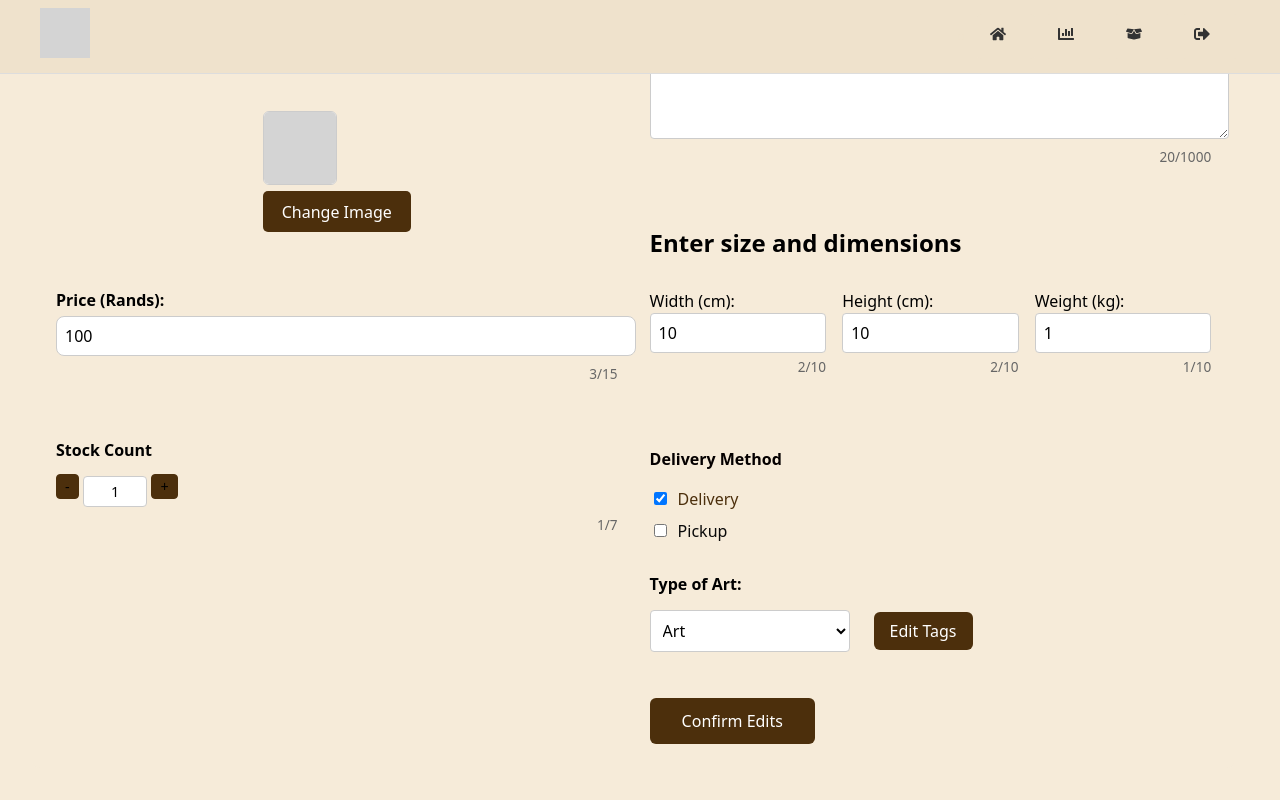
it: EditProductPage Functional Tests › adding tag shows it in list
(page scrolled)
Click the button "Edit Tags" at [923, 631], box [874,612,972,650]
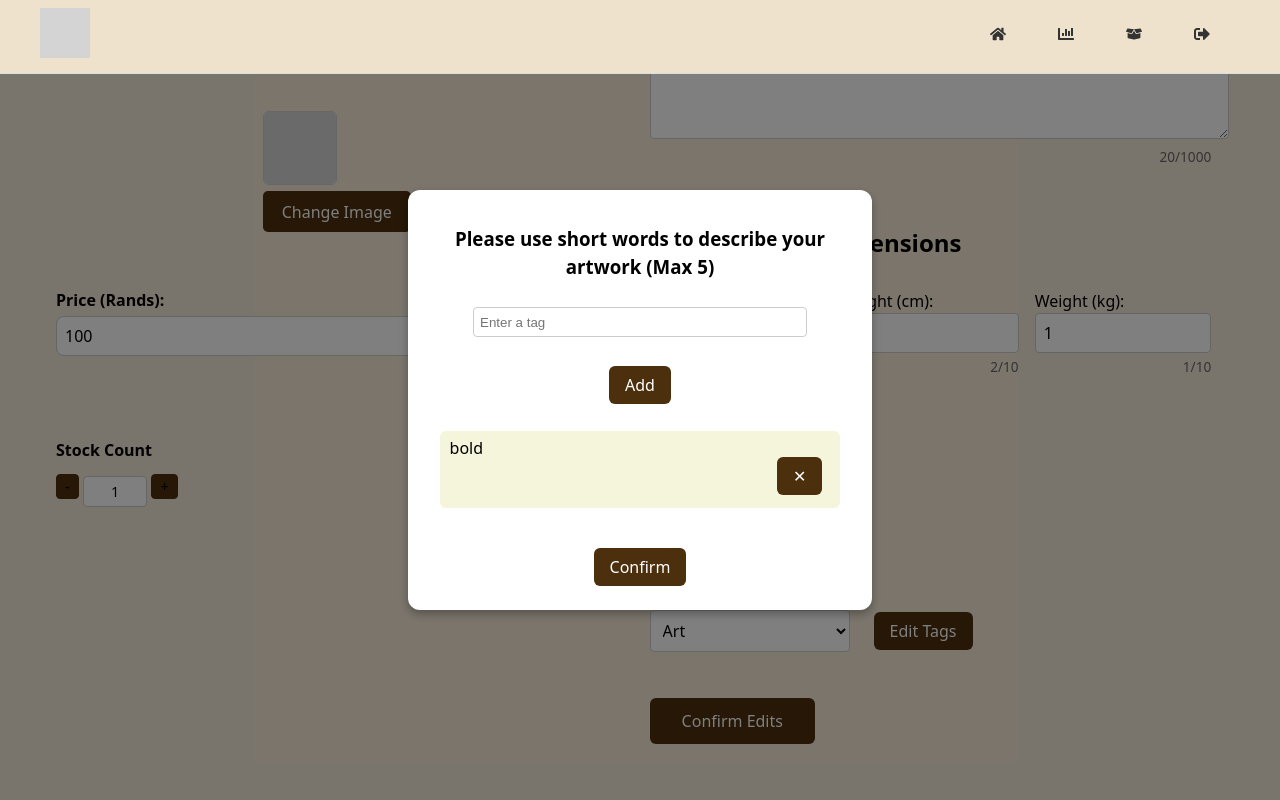
Type "vintage" into the field with placeholder "Enter a tag" at [640, 322], box [473,307,807,337]
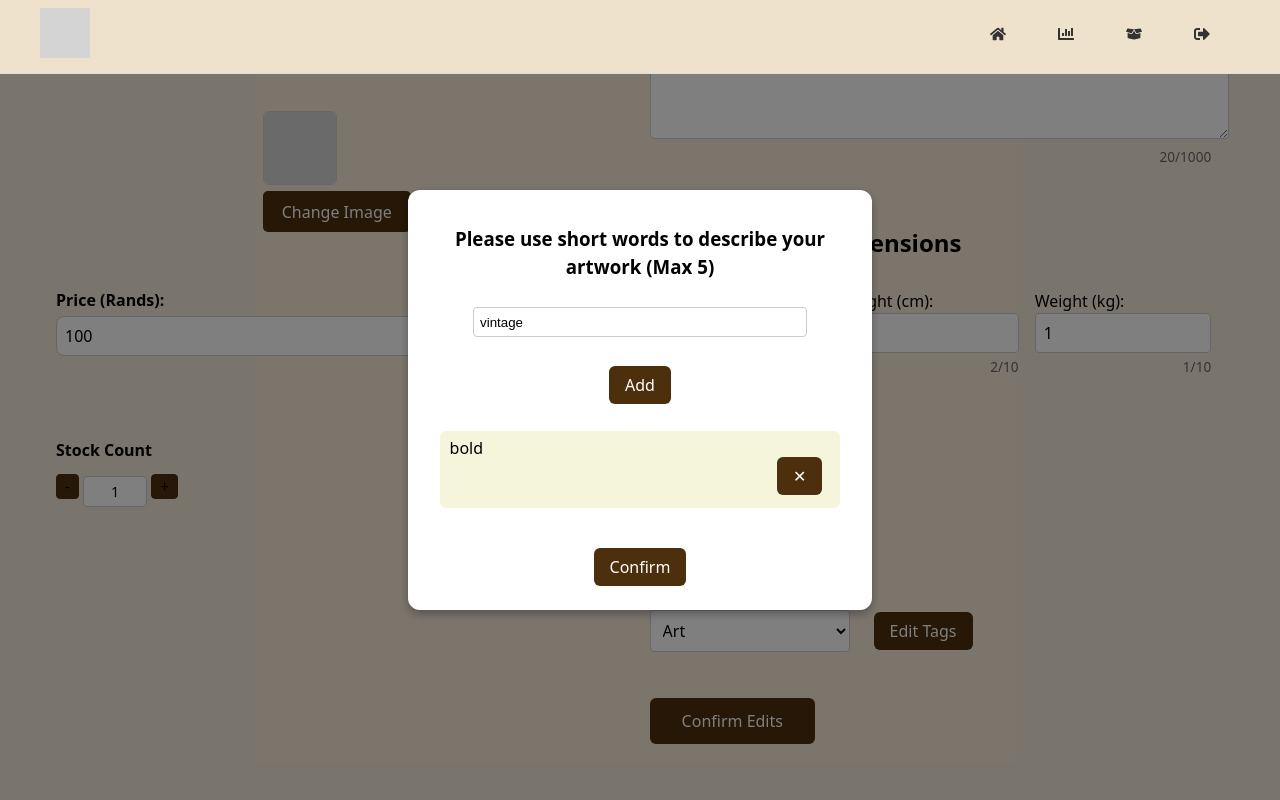
Click the button "Add" at [640, 385], box [609,366,671,404]
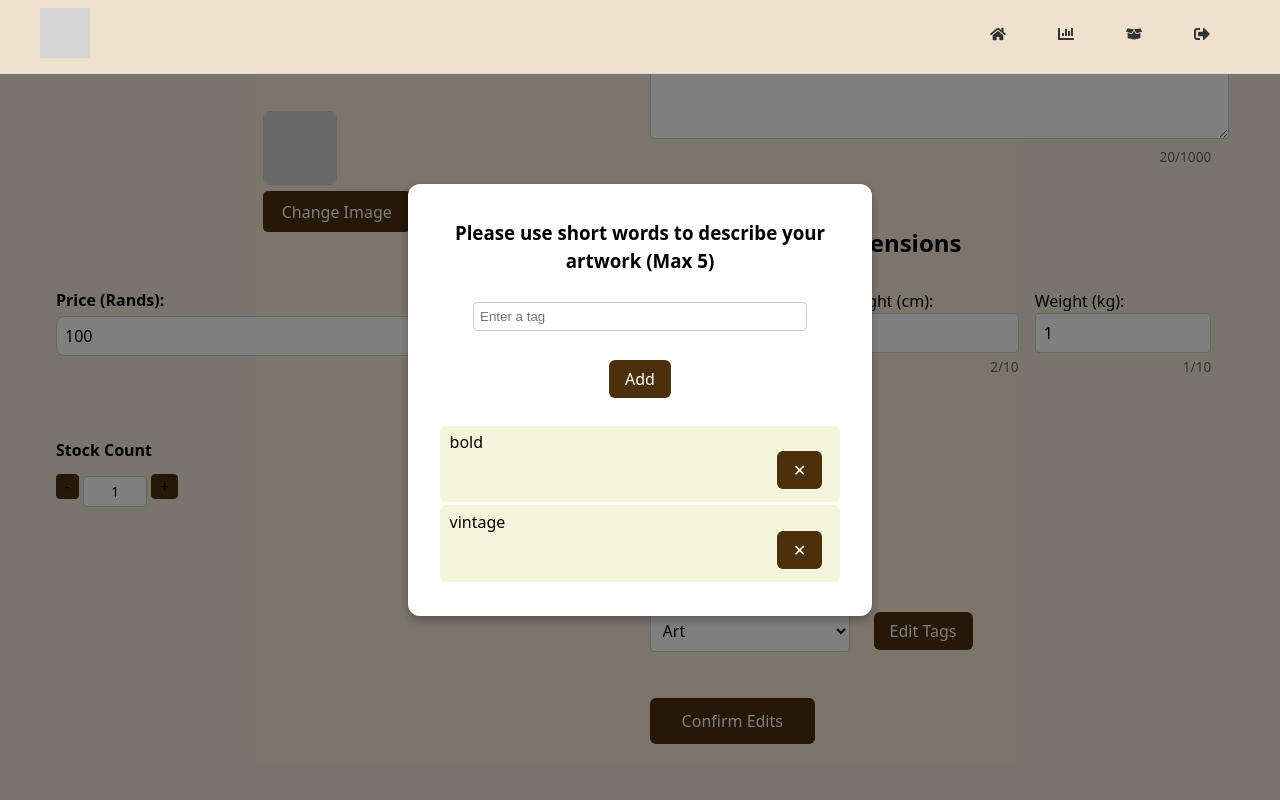
Result: the list item "vintage" is shown at [450,511,505,533]
